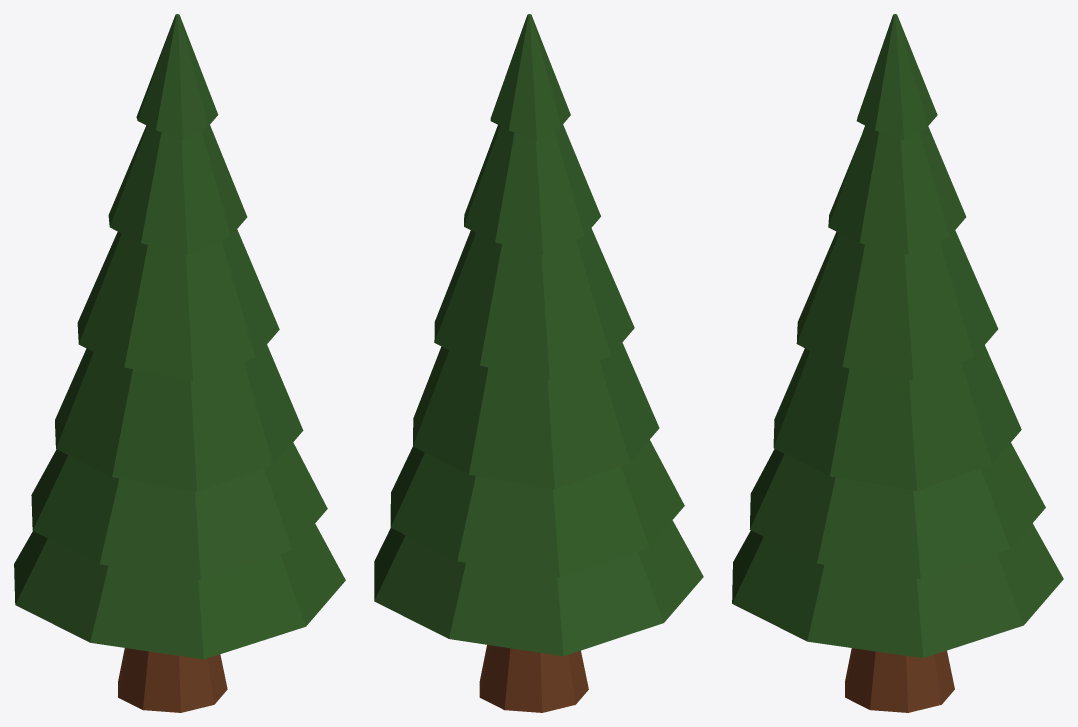
File: LowPolyTree_02.gltf
3 renders of one model, left to right at view 1: azimuth 30°, elevation 25°; view 2: azimuth 150°, elevation 25°; view 3: azimuth 270°, elevation 25°, orthographic.
Visible parts, largest first — view 1: Cylinder; view 2: Cylinder; view 3: Cylinder.
Part boxes in pixels (bbox=[...]): Cylinder: bbox=[14, 14, 345, 712]; Cylinder: bbox=[374, 14, 703, 712]; Cylinder: bbox=[732, 14, 1063, 712].
Size of the model in its own units: 6.16 by 13.69 by 6.08.
